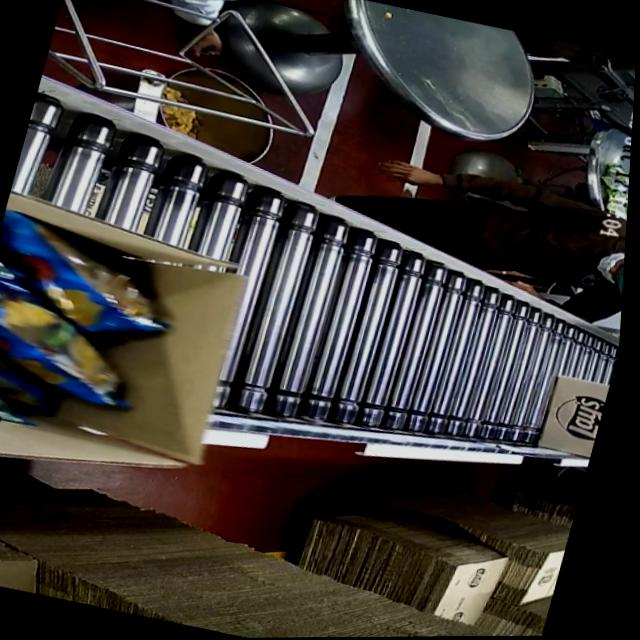PAPRIKA: (0, 214, 206, 463)
